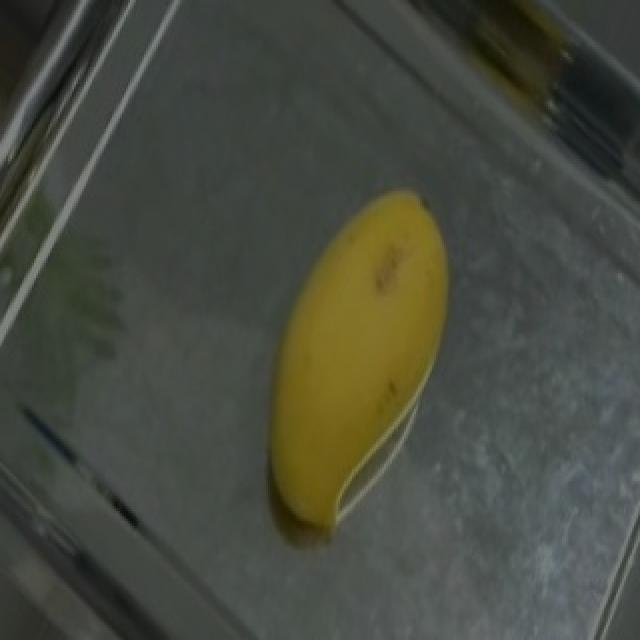fruit: (232, 136, 518, 528)
